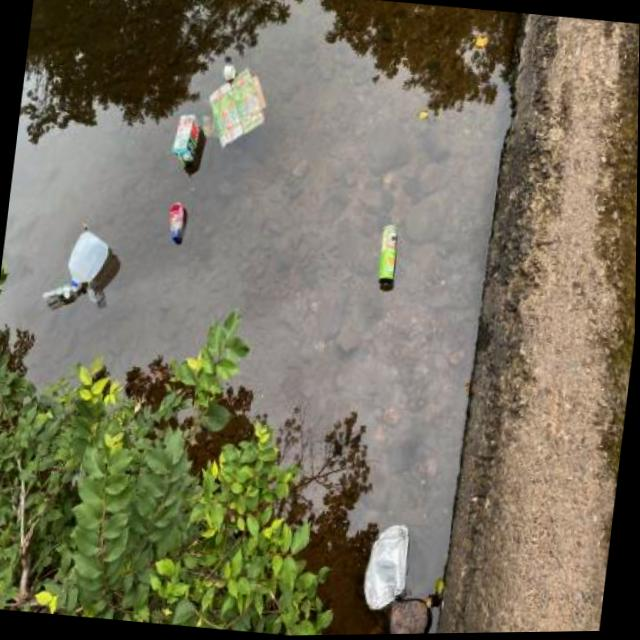Can-Metal: (350, 511, 422, 623), (371, 219, 410, 293)
Cardboard: (192, 54, 276, 154), (164, 108, 207, 170)
Plastic: (41, 222, 118, 309), (160, 188, 198, 248)
